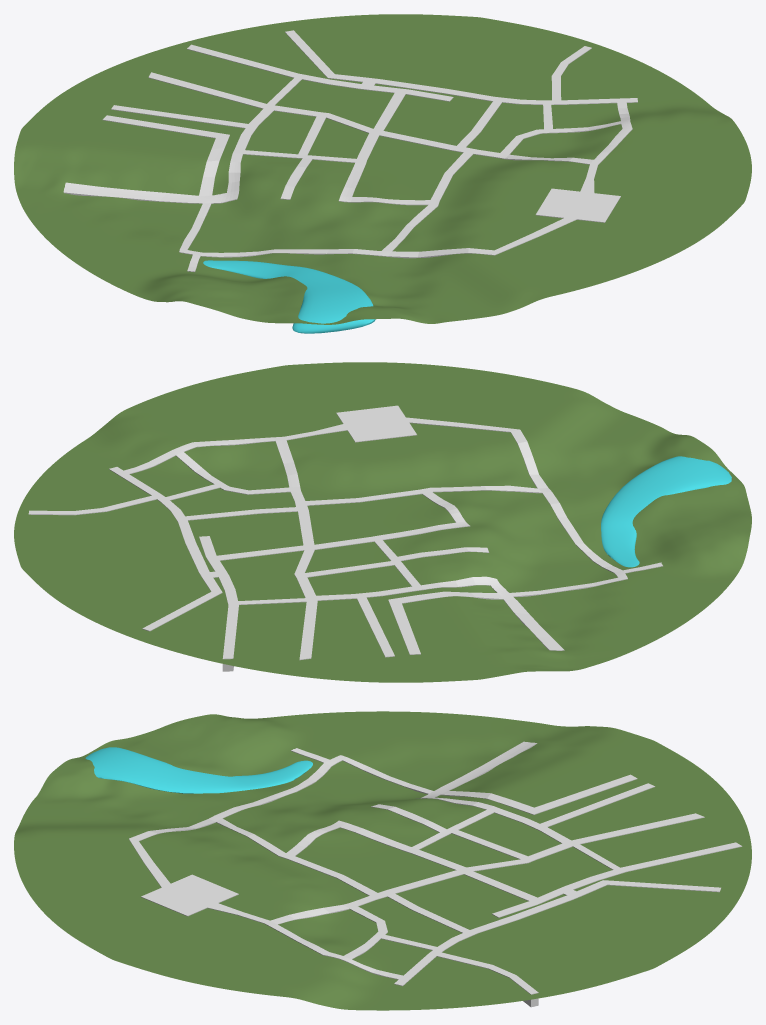
The model's file is WorldCenterGround.fbx.
3 renders of one model, top to bottom at view 1: azimuth 30°, elevation 25°; view 2: azimuth 150°, elevation 25°; view 3: azimuth 270°, elevation 25°, orthographic. The views are drawn at different scales.
Visible parts, largest first — view 1: Ground, Path, Water; view 2: Ground, Path, Water; view 3: Ground, Path, Water.
Boxes of the visible parts, x1,y1,x2,y2 form: Ground: [14, 14, 751, 324]; Path: [63, 30, 637, 272]; Water: [203, 260, 375, 333]; Ground: [14, 362, 751, 682]; Path: [28, 405, 662, 671]; Water: [601, 456, 731, 567]; Ground: [14, 711, 751, 1010]; Path: [129, 741, 742, 1007]; Water: [85, 747, 312, 793].
Size of the model in its own units: 29997 by 1708 by 29997.
